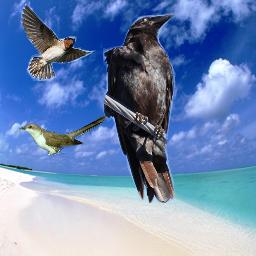Crow: (103, 12, 176, 203)
Cuckoo: (19, 115, 107, 155)
Swallow: (20, 3, 97, 81)
